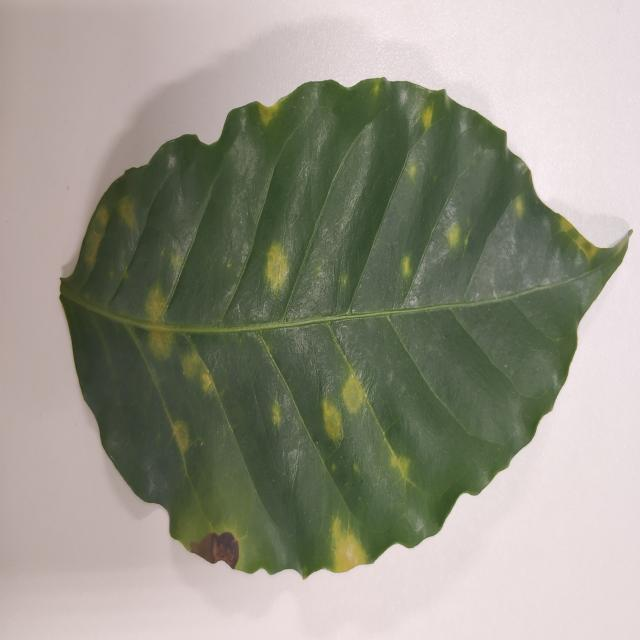Enfermedad-Roya: (58, 78, 630, 580)
